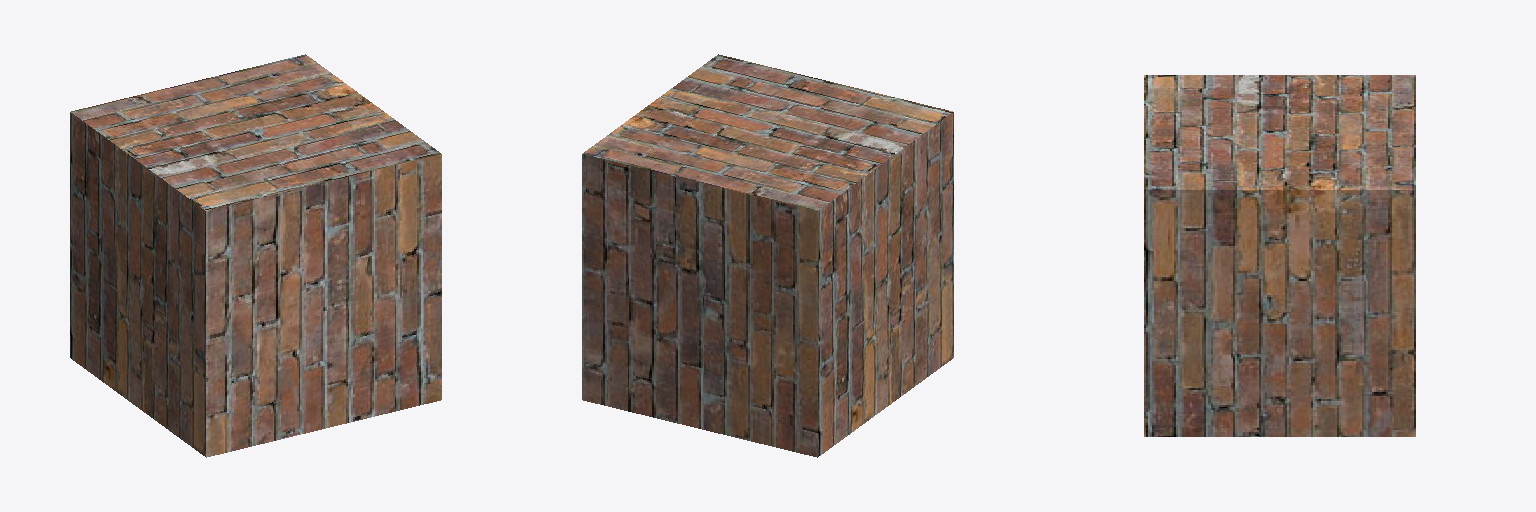
The picture shows the model from 3 angles: view 1: azimuth 30°, elevation 25°; view 2: azimuth 150°, elevation 25°; view 3: azimuth 270°, elevation 25°; orthographic projection.
Visible parts, largest first — view 1: Cube; view 2: Cube; view 3: Cube.
Boxes of the visible parts, box(x1,y1,x2,y2) form: Cube: box(70, 54, 441, 457); Cube: box(582, 54, 953, 457); Cube: box(1144, 75, 1415, 436).
Bounding box in the file's own units: 2 × 2 × 2.
1 materials, 1 textured.